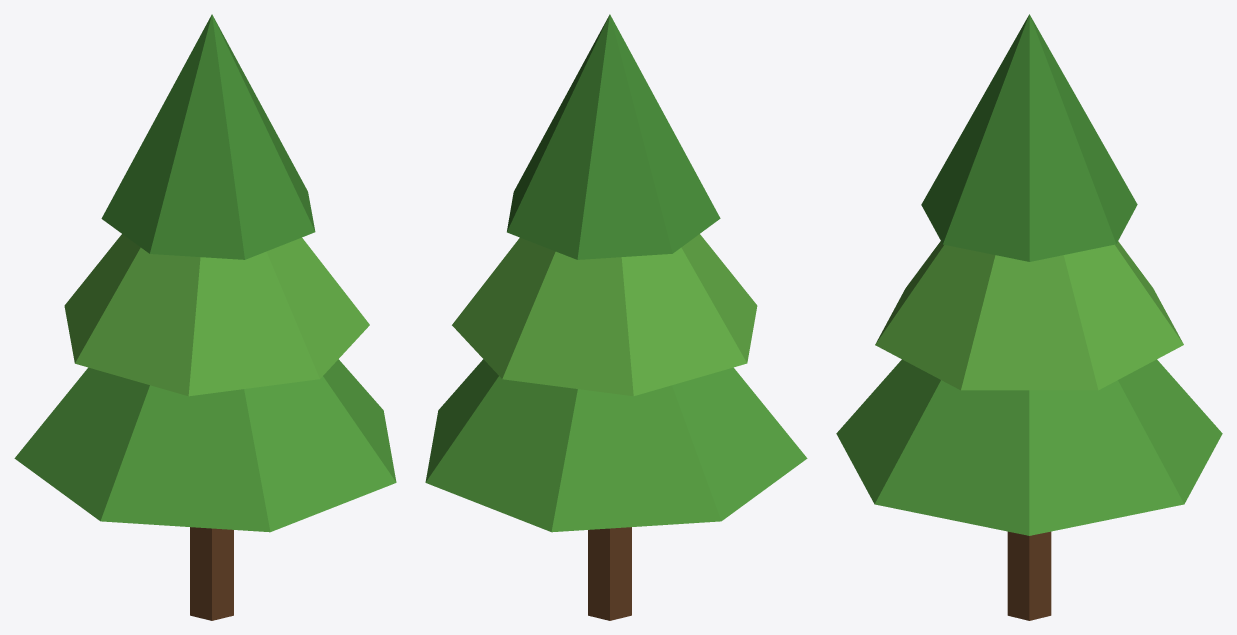
File: SM_PineA_G.glb
3 renders of one model, left to right at view 1: azimuth 30°, elevation 25°; view 2: azimuth 150°, elevation 25°; view 3: azimuth 270°, elevation 25°, orthographic.
Visible parts, largest first — view 1: SM_PineA_G; view 2: SM_PineA_G; view 3: SM_PineA_G.
Boxes of the visible parts, box(x1,y1,x2,y2) form: SM_PineA_G: box(14, 14, 396, 620); SM_PineA_G: box(425, 14, 807, 620); SM_PineA_G: box(836, 14, 1222, 620).
Bounding box in the file's own units: 4.75 × 8.3 × 4.87.
Materials: 1 (1 with a texture image).
